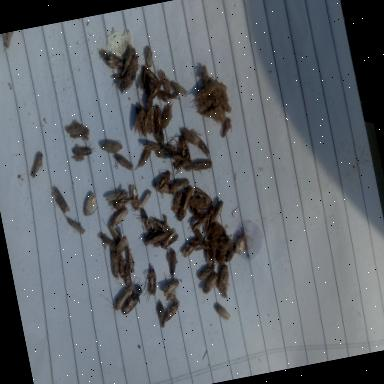pbw: (142, 270, 162, 304), (111, 288, 136, 312), (207, 200, 230, 226), (158, 102, 179, 130), (51, 188, 70, 218), (180, 184, 199, 212), (214, 266, 233, 294), (149, 213, 171, 236), (108, 207, 132, 228), (150, 101, 165, 134), (104, 187, 132, 204), (134, 148, 155, 170), (154, 167, 175, 189), (159, 232, 182, 252), (176, 135, 192, 163), (138, 208, 154, 236), (31, 152, 48, 178), (100, 139, 124, 157), (116, 153, 136, 174), (127, 184, 142, 212), (72, 144, 98, 160), (170, 154, 190, 174), (200, 276, 220, 296), (156, 68, 172, 93), (160, 304, 182, 322), (80, 194, 98, 216), (166, 251, 181, 277), (142, 231, 166, 247), (122, 297, 142, 316), (168, 192, 188, 211), (219, 117, 236, 139), (121, 262, 134, 290), (67, 216, 85, 236), (114, 236, 132, 256), (182, 240, 202, 258), (106, 52, 126, 70), (100, 230, 118, 250), (233, 234, 249, 256), (138, 116, 154, 138), (109, 255, 123, 280), (214, 302, 231, 322), (187, 161, 213, 174), (124, 246, 136, 274), (198, 185, 212, 208), (197, 264, 217, 280), (170, 82, 188, 98), (163, 280, 183, 294), (144, 46, 156, 68), (194, 212, 212, 226), (111, 198, 132, 210), (156, 302, 166, 327), (172, 179, 194, 190), (192, 226, 204, 246), (156, 146, 176, 158), (118, 254, 128, 278), (154, 182, 172, 195), (174, 206, 189, 221), (186, 214, 202, 228), (140, 191, 154, 207), (142, 140, 160, 151), (166, 292, 180, 306), (193, 242, 210, 252), (74, 156, 86, 164), (82, 264, 84, 265)
